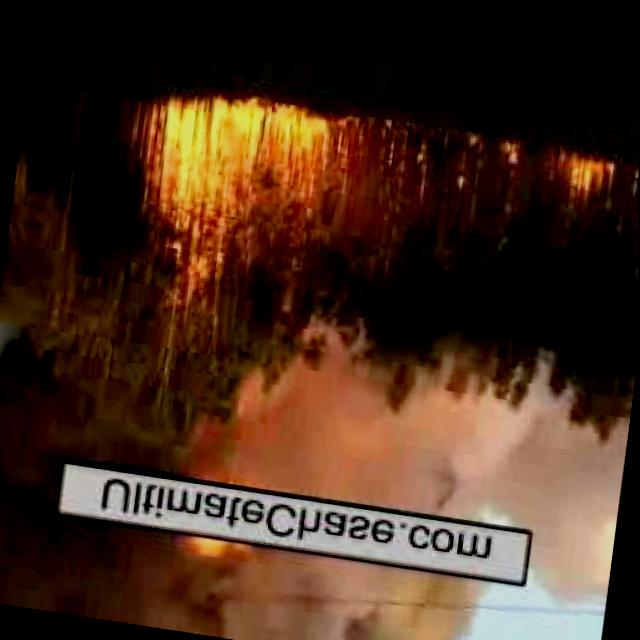helmet: (192, 343, 632, 546), (0, 513, 480, 640), (122, 77, 358, 302), (358, 105, 488, 200), (548, 145, 621, 197), (191, 533, 245, 560), (501, 131, 522, 164), (631, 155, 639, 234)
